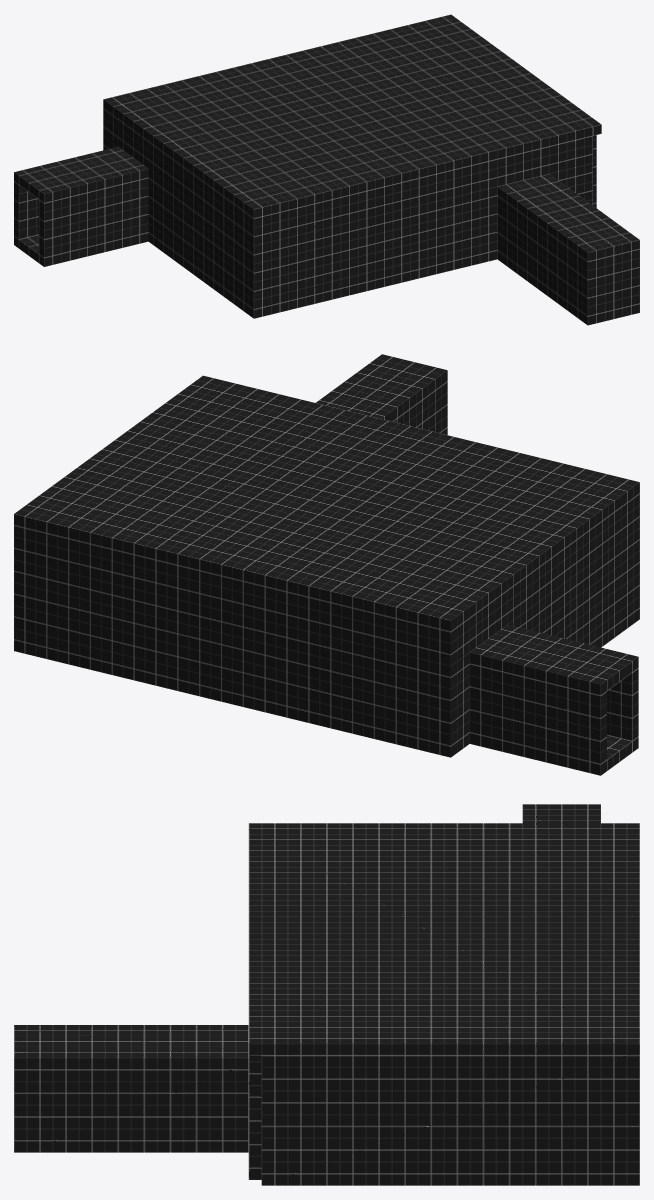
File: test_level.obj
3 renders of one model, top to bottom at view 1: azimuth 30°, elevation 25°; view 2: azimuth 150°, elevation 25°; view 3: azimuth 270°, elevation 25°, orthographic. The views are drawn at different scales.
Visible parts, largest first — view 1: entity0_brush11, entity0_brush5, entity0_brush27, entity0_brush8, entity0_brush25, entity0_brush2, entity0_brush9, entity0_brush26, entity0_brush3, entity0_brush18, entity0_brush28, entity0_brush23 (+3 smaller); view 2: entity0_brush11, entity0_brush18, entity0_brush27, entity0_brush23, entity0_brush26, entity0_brush24, entity0_brush3, entity0_brush2, entity0_brush28, entity0_brush25, entity0_brush9, entity0_brush1 (+1 smaller); view 3: entity0_brush11, entity0_brush6, entity0_brush1, entity0_brush3, entity0_brush18, entity0_brush9, entity0_brush27, entity0_brush26, entity0_brush2, entity0_brush7.
Part boxes in pixels (x1,y1,x2,y2): entity0_brush11: [117, 18, 601, 216]; entity0_brush5: [262, 186, 497, 316]; entity0_brush27: [148, 130, 262, 318]; entity0_brush8: [262, 136, 592, 243]; entity0_brush25: [39, 178, 148, 266]; entity0_brush2: [497, 184, 590, 321]; entity0_brush9: [582, 236, 639, 325]; entity0_brush26: [14, 147, 148, 203]; entity0_brush3: [506, 176, 625, 246]; entity0_brush18: [112, 14, 455, 100]; entity0_brush28: [118, 108, 156, 168]; entity0_brush23: [14, 181, 38, 248]; entity0_brush11: [21, 375, 628, 612]; entity0_brush18: [14, 509, 445, 754]; entity0_brush27: [497, 479, 639, 647]; entity0_brush23: [469, 664, 606, 775]; entity0_brush26: [469, 624, 638, 695]; entity0_brush24: [440, 604, 469, 757]; entity0_brush3: [327, 361, 429, 415]; entity0_brush2: [370, 372, 441, 433]; entity0_brush28: [459, 576, 507, 651]; entity0_brush25: [607, 668, 638, 752]; entity0_brush9: [376, 354, 447, 434]; entity0_brush1: [316, 359, 386, 405]; entity0_brush11: [248, 828, 626, 1055]; entity0_brush6: [261, 1055, 626, 1185]; entity0_brush1: [27, 1052, 248, 1152]; entity0_brush3: [27, 1030, 248, 1052]; entity0_brush18: [627, 828, 639, 1185]; entity0_brush9: [14, 1025, 26, 1152]; entity0_brush27: [248, 823, 522, 828]; entity0_brush26: [522, 804, 600, 823]; entity0_brush2: [27, 1025, 248, 1030]; entity0_brush7: [248, 1085, 261, 1179].
Size of the model in its own units: 1664 by 384 by 1536.
Materials: 1 (1 with a texture image).
